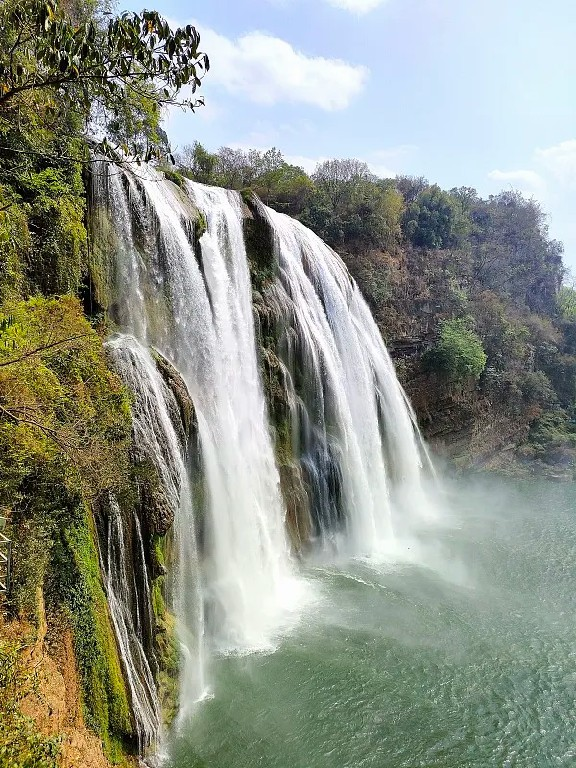Huangguoshu: (91, 143, 441, 740)
